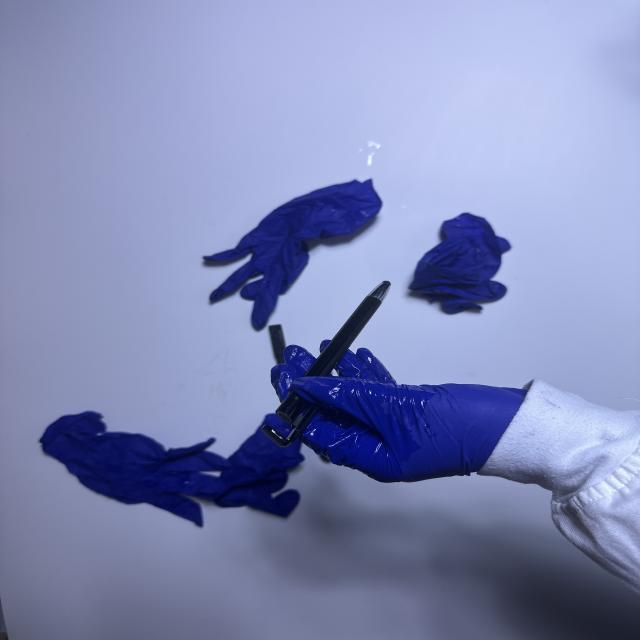gloves_contaminated: (270, 338, 526, 482)
